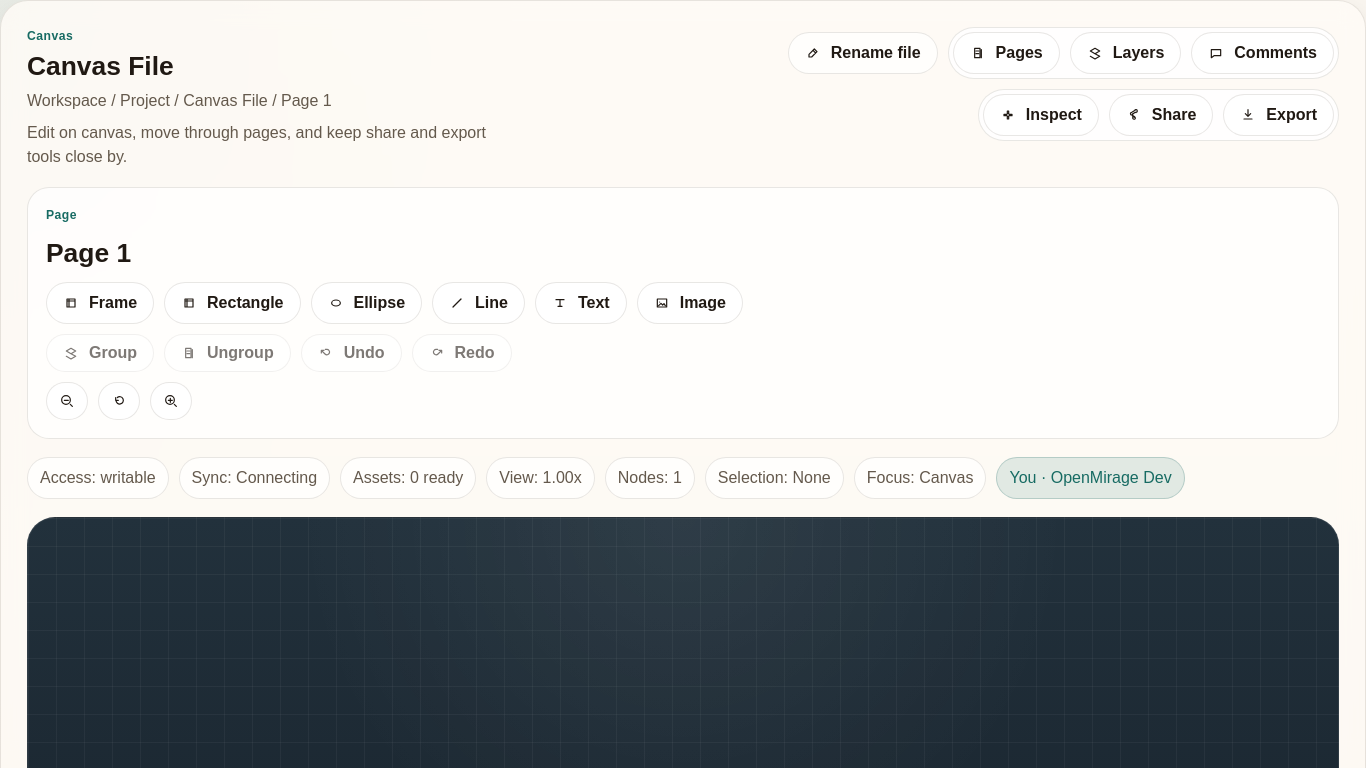
PageEditorScreen shell › resets comment mode when comments become unavailable
Step 1. Click the button with test id "left-rail-toggle-comments" → (1263, 53), box [1191,32,1334,74]
(page scrolled)
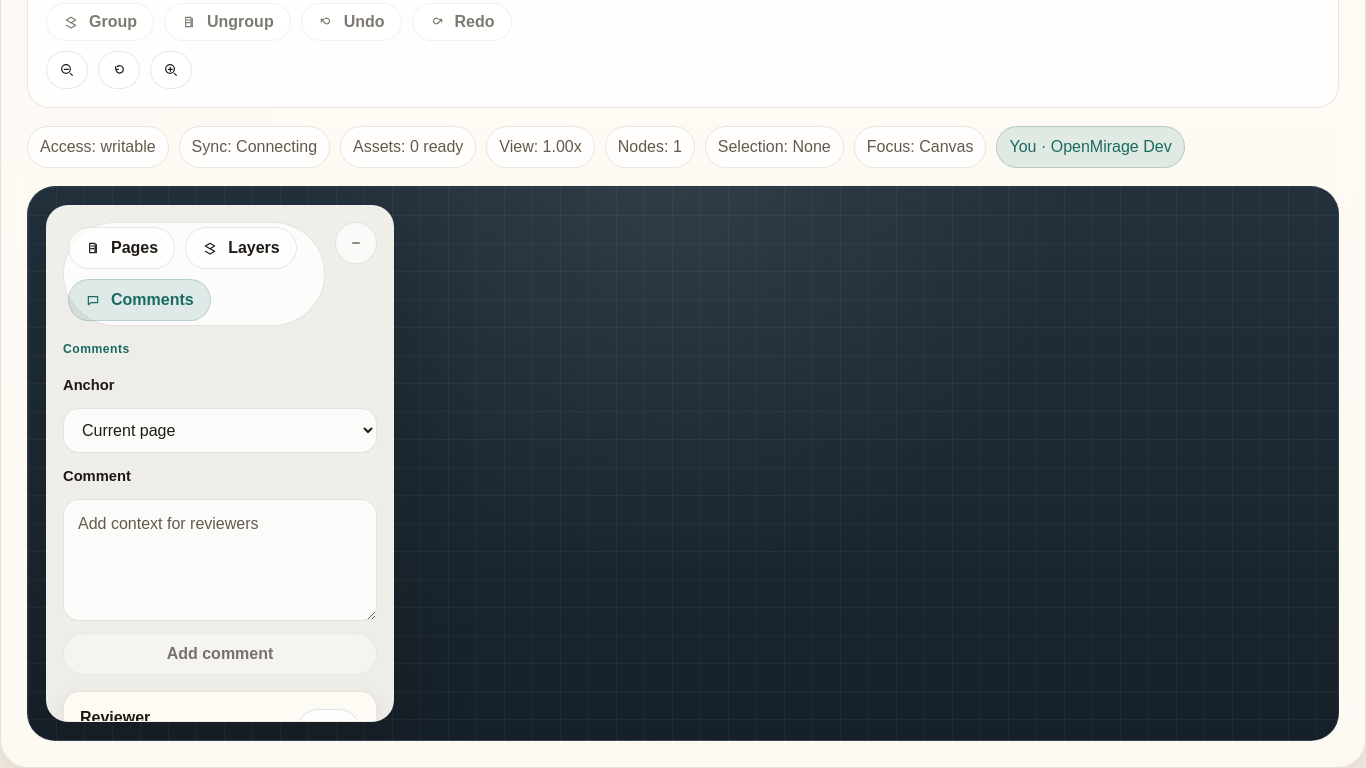
Expected: the element with test id "left-rail" is shown, [46,205,394,722]
